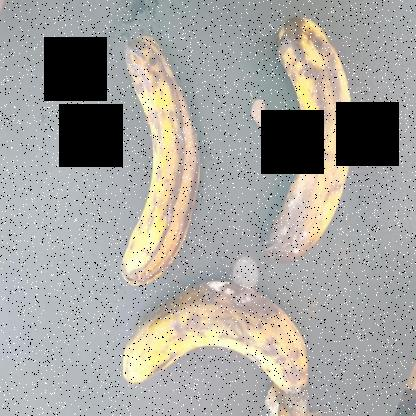rotten: (120, 277, 326, 415), (103, 24, 200, 301), (262, 20, 360, 272)
